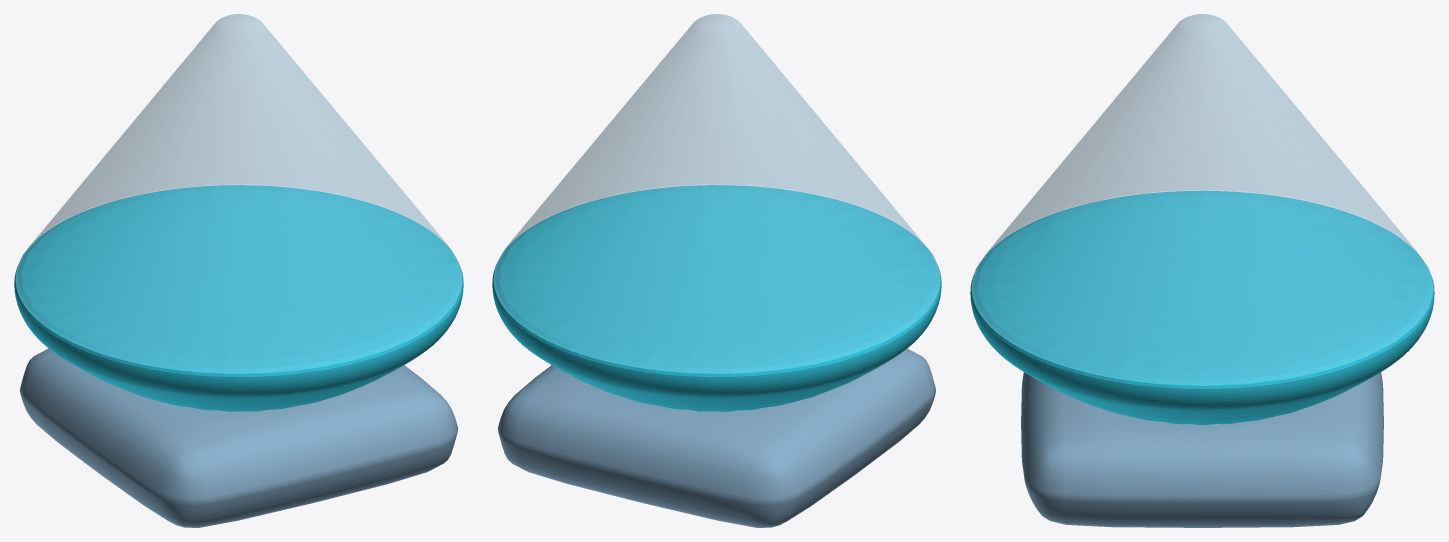
The model's file is solar_still.fbx.
3 renders of one model, left to right at view 1: azimuth 30°, elevation 25°; view 2: azimuth 150°, elevation 25°; view 3: azimuth 270°, elevation 25°, orthographic. The views are drawn at different scales.
Parts seen in each view (by area): view 1: solar_still_container.001, solar_still_water.001, solar_still_base; view 2: solar_still_container.001, solar_still_water.001, solar_still_base; view 3: solar_still_container.001, solar_still_water.001, solar_still_base.
Boxes of the visible parts, <box> form: solar_still_container.001: <box>15,14,462,372</box>; solar_still_water.001: <box>14,185,463,411</box>; solar_still_base: <box>19,348,457,527</box>; solar_still_container.001: <box>493,14,940,372</box>; solar_still_water.001: <box>492,185,941,411</box>; solar_still_base: <box>498,348,936,527</box>; solar_still_container.001: <box>971,14,1433,385</box>; solar_still_water.001: <box>970,190,1434,425</box>; solar_still_base: <box>1021,372,1383,527</box>.
Bounding box in the file's own units: 94.39 × 101 × 94.39.
